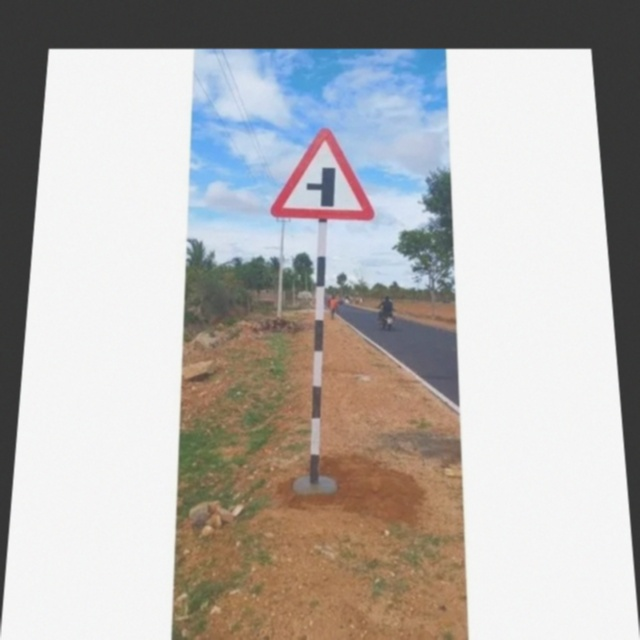Side_Road_Left: (267, 124, 377, 223)
